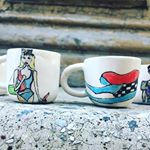cups: (59, 53, 142, 111), (5, 45, 61, 106)
